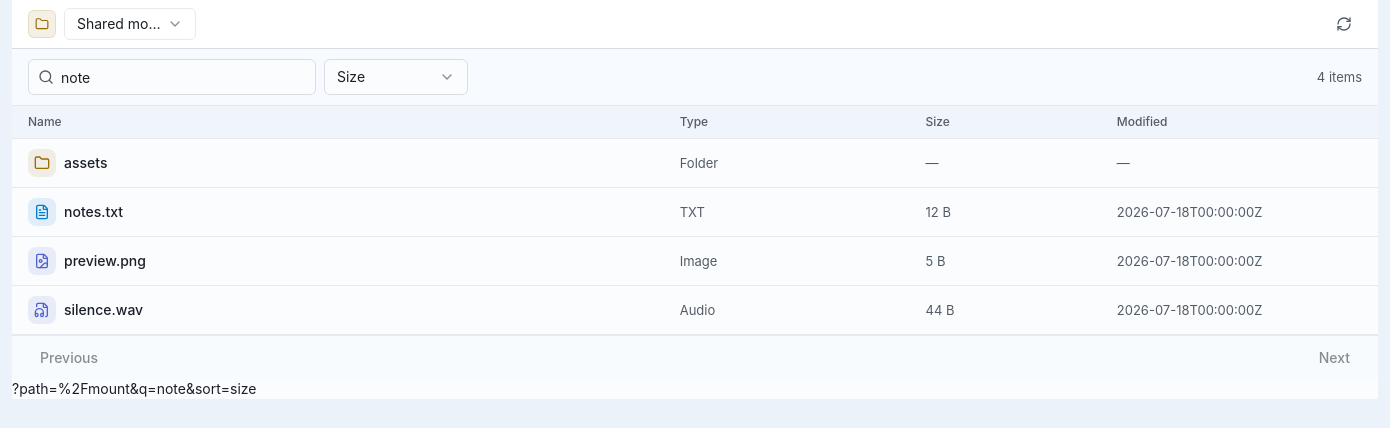
Scenario: <StoragePage> › restores location state and previews a file on a single click
This screenshot has width=1390, height=428.
Expected: the field with placeholder "Search current folder" holds "note", x1=28 y1=59 x2=316 y2=95
Expected: the text with test id "location" shows "path=%2Fmount", x1=12 y1=380 x2=256 y2=397
Click the button "notes.txt": (94, 212) x1=28 y1=196 x2=652 y2=228
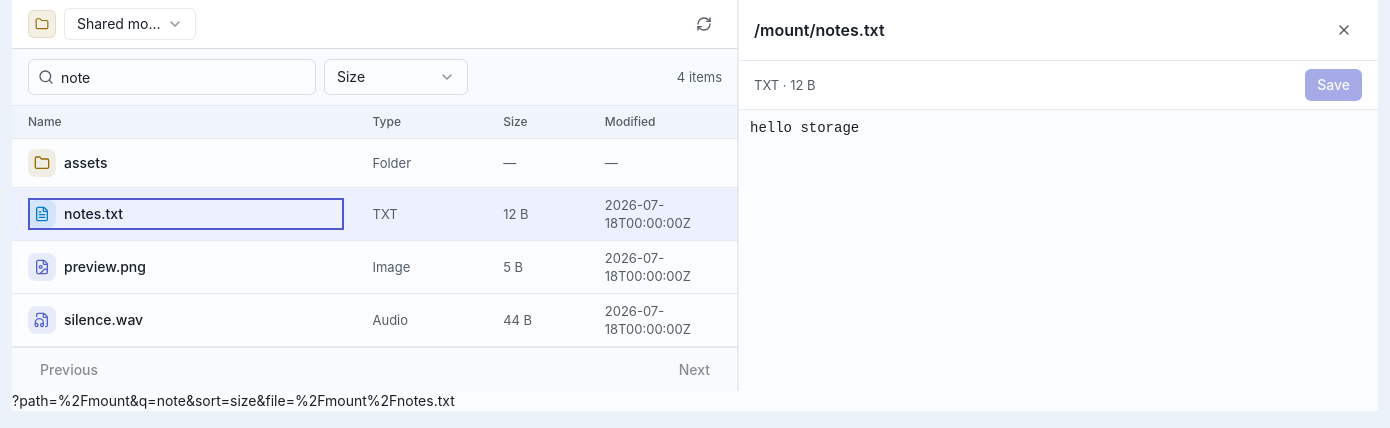
Expected: the heading "/mount/notes.txt" is shown, x1=754 y1=18 x2=884 y2=42
Expected: the text with test id "location" shows "file=%2Fmount%2Fnotes.txt", x1=12 y1=392 x2=455 y2=409
